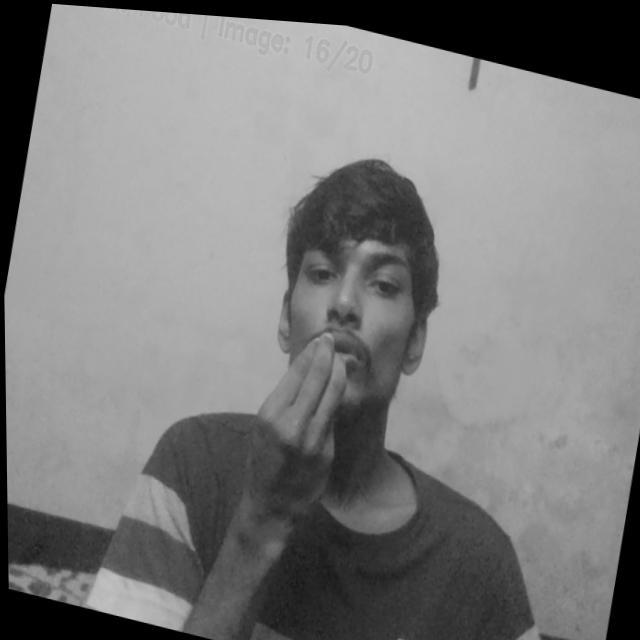Food: (233, 309, 362, 530)
